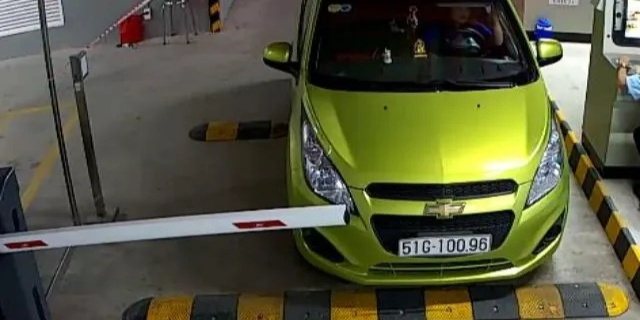bien_so: (400, 238, 490, 255)
